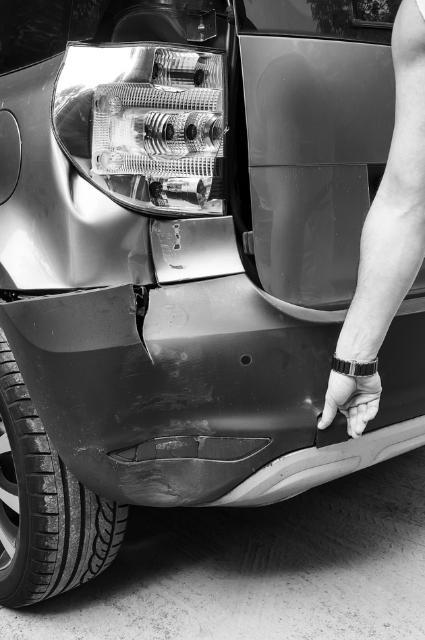Bumper: (12, 266, 312, 506)
Fender: (0, 135, 248, 292)
Light: (44, 42, 239, 222)
